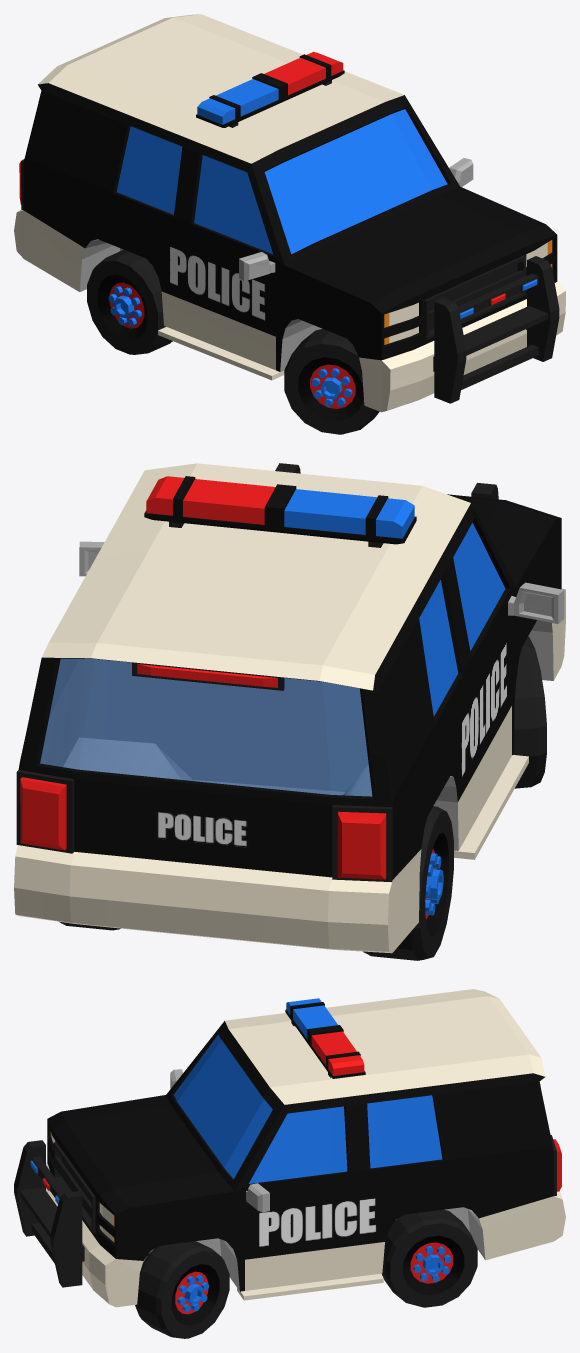
The model's file is police car 1.fbx.
The picture shows the model from 3 angles, top to bottom: view 1: azimuth 30°, elevation 25°; view 2: azimuth 150°, elevation 25°; view 3: azimuth 270°, elevation 25°; orthographic projection. The views are drawn at different scales.
Parts seen in each view (by area): view 1: police_car; view 2: police_car, pPlane1; view 3: police_car.
Part boxes in pixels (x1,y1,x2,y2): police_car: [14, 14, 565, 434]; police_car: [14, 463, 565, 960]; pPlane1: [40, 658, 372, 796]; police_car: [14, 989, 565, 1338].
Size of the model in its own units: 16.33 by 11.83 by 24.57.
Materials: 3 (2 with a texture image).
